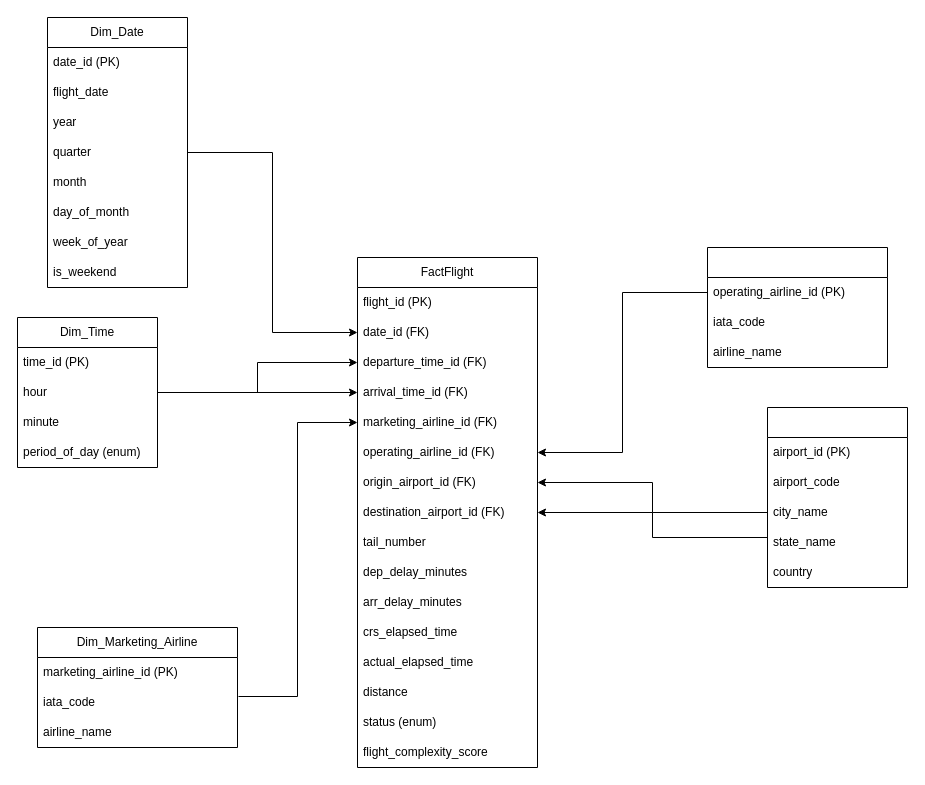
Image size: 925x785. Some labels were removed from this diagram. The box of each missing label's shape, as (x1, y1, x2, y2) in pixels:
Dim_Airport: (766, 406, 908, 588)
Dim_Operating_Airline: (706, 246, 888, 368)
